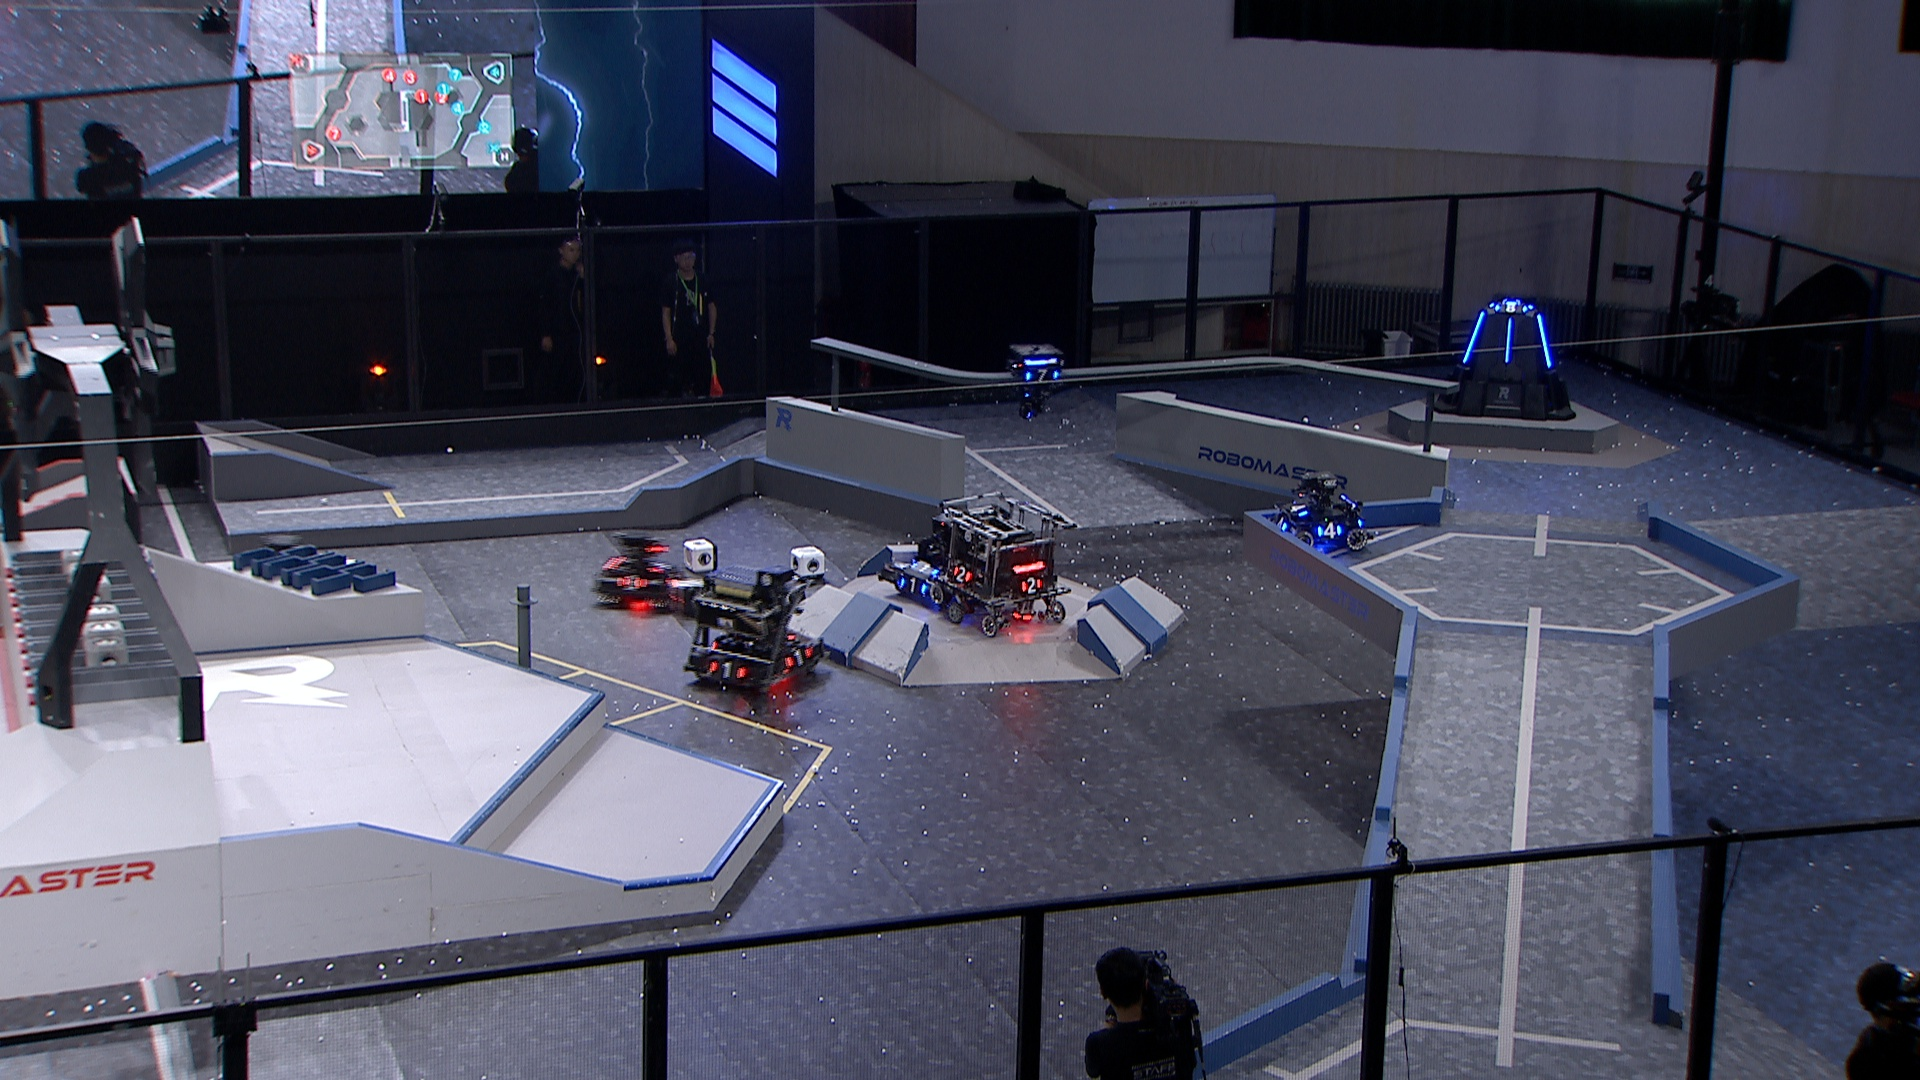armor: (1461, 309, 1489, 367), (1534, 313, 1556, 368), (707, 659, 746, 683), (785, 646, 814, 671), (615, 572, 647, 593), (1025, 367, 1062, 385), (1491, 301, 1531, 316), (898, 576, 927, 597), (1503, 316, 1515, 367), (1315, 520, 1342, 541), (1019, 576, 1043, 597), (910, 560, 942, 576), (949, 564, 973, 584), (1286, 500, 1307, 518), (647, 559, 671, 575), (1273, 516, 1290, 531)
base: (1427, 299, 1580, 423)
car: (938, 491, 1077, 638), (684, 564, 827, 700), (878, 506, 1001, 609), (1269, 465, 1370, 553), (588, 529, 684, 611)
watcher: (1004, 342, 1065, 419)
